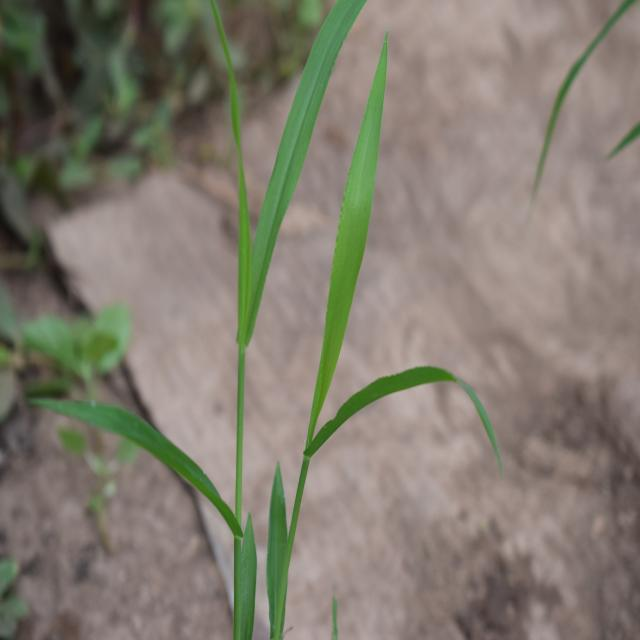crabgrass: (94, 8, 485, 577)
